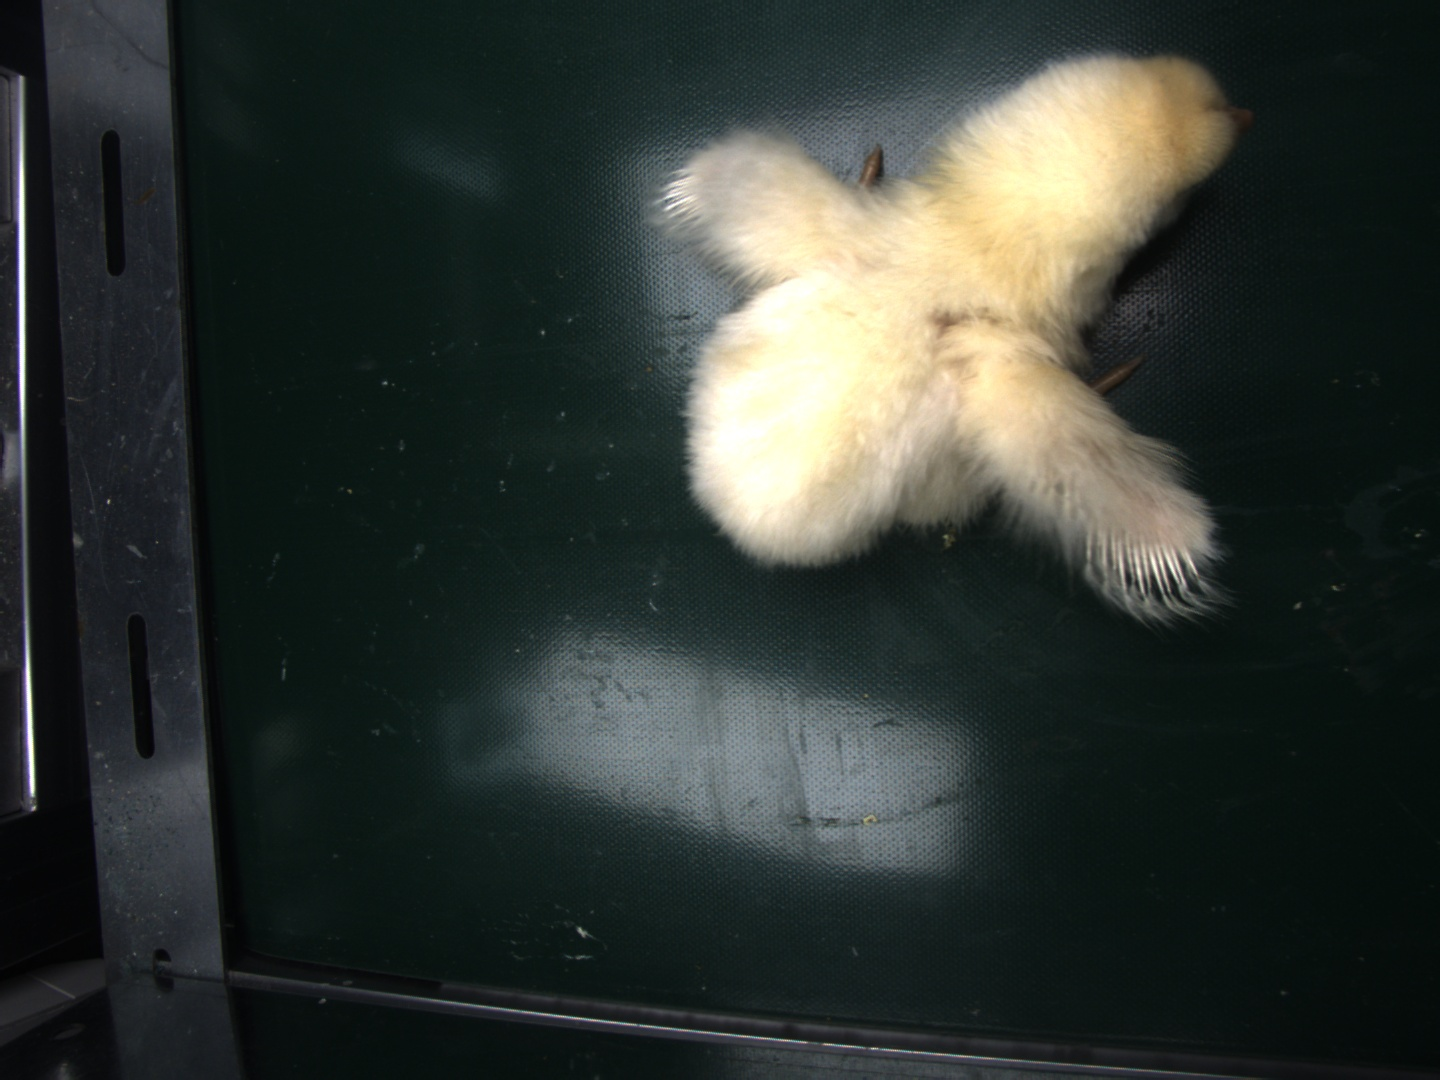male: (1090, 528, 1198, 601)
